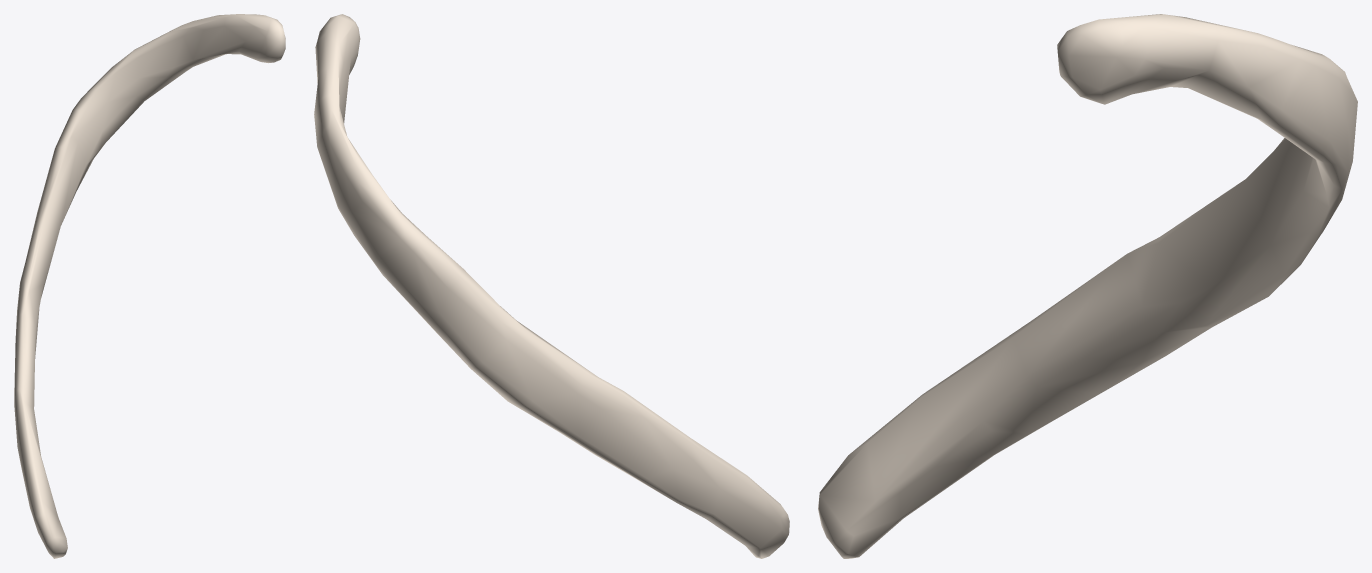
The model's file is right_rib_11.glb.
The picture shows the model from 3 angles, left to right: view 1: azimuth 30°, elevation 25°; view 2: azimuth 150°, elevation 25°; view 3: azimuth 270°, elevation 25°; orthographic projection. The views are drawn at different scales.
Visible parts, largest first — view 1: Rib (11th).r; view 2: Rib (11th).r; view 3: Rib (11th).r.
Part boxes in pixels (x1=…): Rib (11th).r: x1=14, y1=14, x2=285, y2=558; Rib (11th).r: x1=314, y1=14, x2=789, y2=558; Rib (11th).r: x1=818, y1=14, x2=1357, y2=558.
Size of the model in its own units: 0.0995 by 0.1302 by 0.08.
